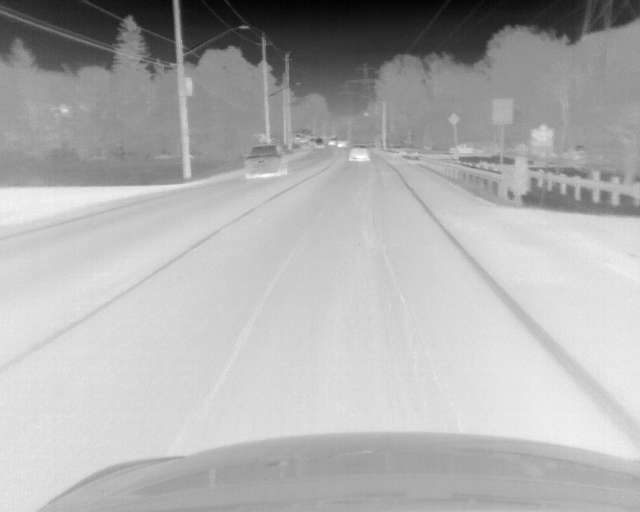car: (242, 143, 288, 179), (348, 145, 370, 162), (314, 137, 324, 148), (327, 138, 336, 146), (337, 141, 346, 148), (298, 137, 307, 144), (308, 137, 314, 146)
